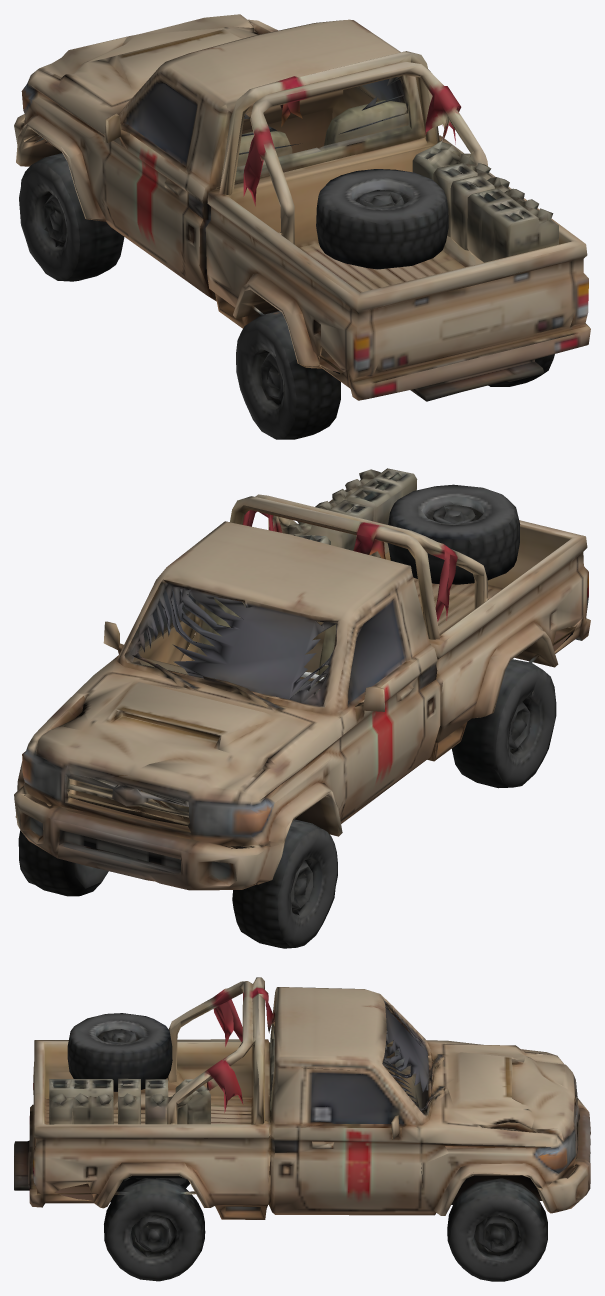
The picture shows the model from 3 angles, top to bottom: view 1: azimuth 30°, elevation 25°; view 2: azimuth 150°, elevation 25°; view 3: azimuth 270°, elevation 25°; orthographic projection. The views are drawn at different scales.
Visible parts, largest first — view 1: repaired; view 2: repaired; view 3: repaired.
Part boxes in pixels (left/top/right/bottom): repaired: left=14, top=14, right=590, bottom=439; repaired: left=14, top=468, right=590, bottom=948; repaired: left=14, top=977, right=590, bottom=1281.
Size of the model in its own units: 0.444 by 0.4378 by 0.9998.
Materials: 1 (1 with a texture image).
